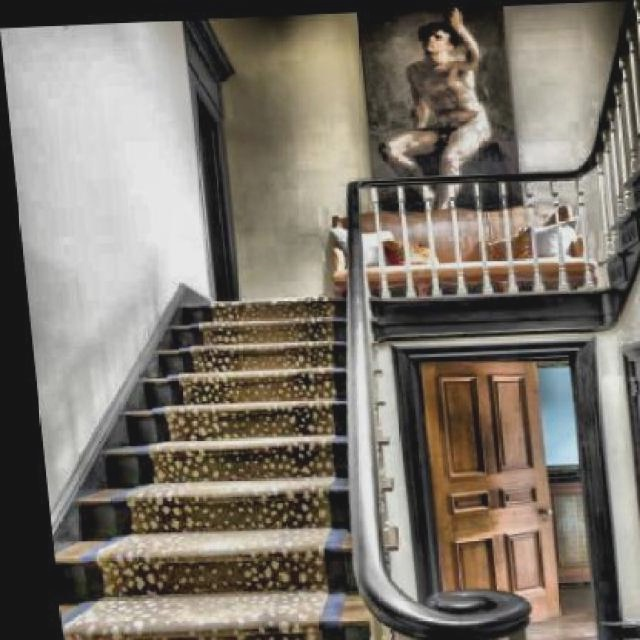stair: (24, 296, 382, 638)
